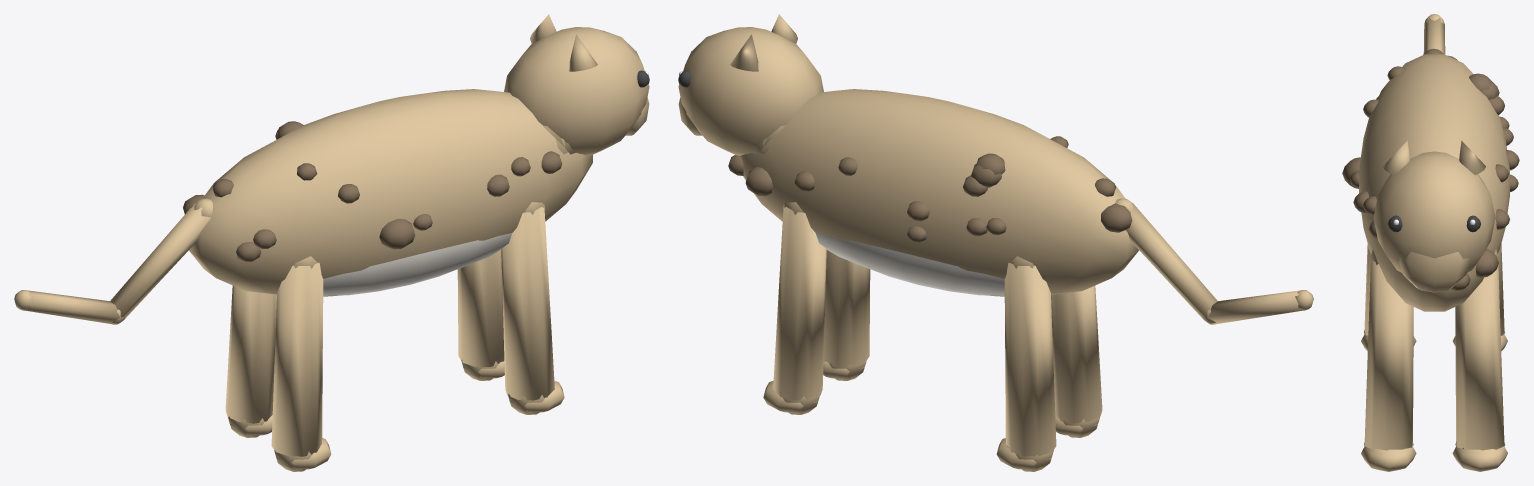
File: leopard-cat.glb
3 views of the same model, side by side, from view 1: azimuth 30°, elevation 25°; view 2: azimuth 150°, elevation 25°; view 3: azimuth 270°, elevation 25° (orthographic).
Visible parts, largest first — view 1: e, cone, e.047; view 2: e, cone, e.047; view 3: e, cone, e.047.
Part boxes in pixels (bbox=[...]): e: bbox=[183, 89, 592, 471]; cone: bbox=[504, 14, 649, 155]; e.047: bbox=[14, 198, 212, 324]; e: bbox=[728, 89, 1138, 471]; cone: bbox=[678, 14, 823, 155]; e.047: bbox=[1115, 198, 1313, 324]; e: bbox=[1342, 48, 1519, 471]; cone: bbox=[1373, 140, 1495, 292]; e.047: bbox=[1423, 14, 1445, 54].
Size of the model in its own units: 1.12 by 0.6131 by 0.279.
